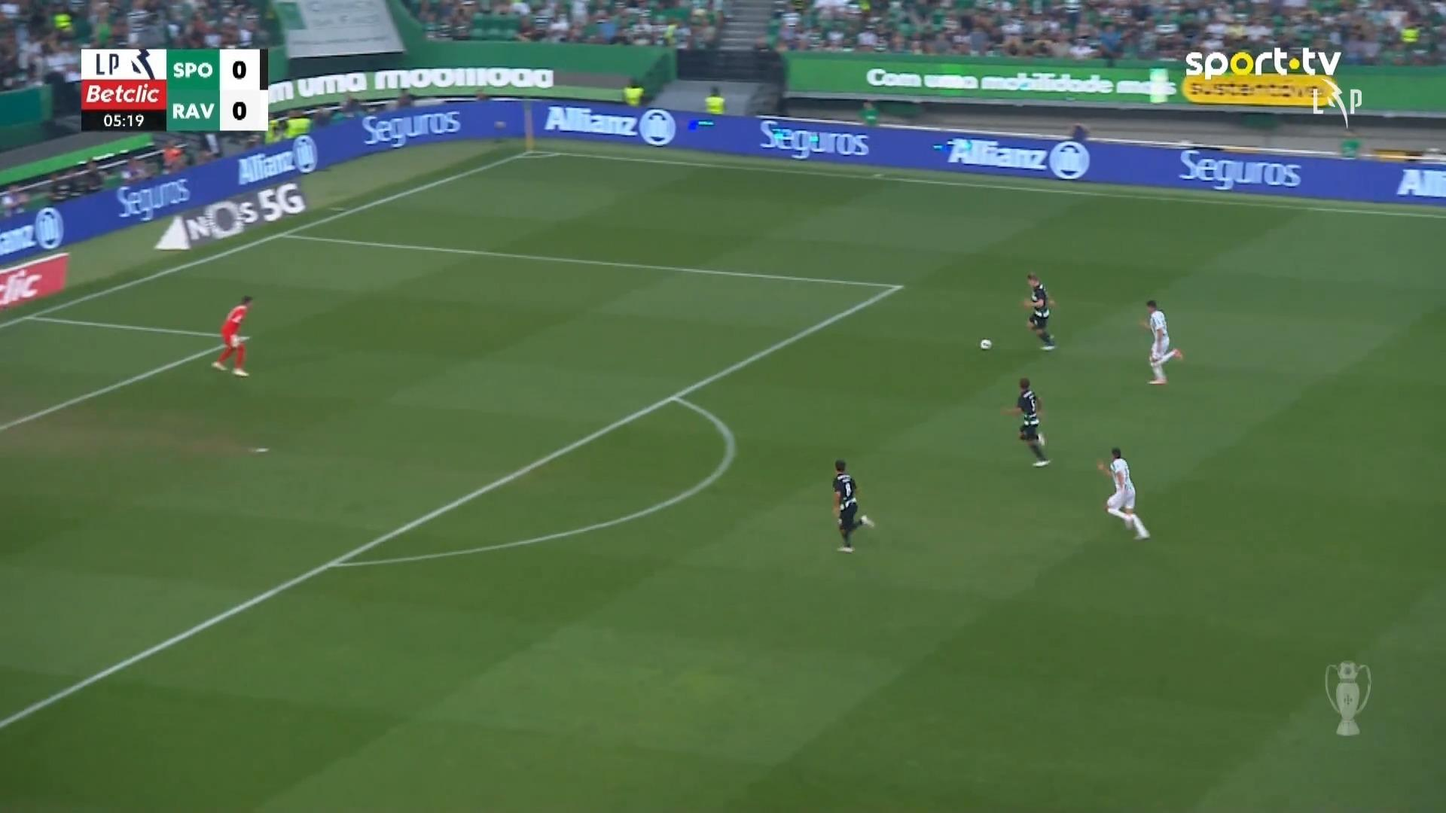ball: (979, 338, 991, 349)
goalkeeper: (210, 294, 254, 377)
player: (1096, 446, 1150, 540), (1000, 376, 1051, 467), (831, 458, 875, 553), (1140, 298, 1182, 385), (1023, 271, 1057, 350)
